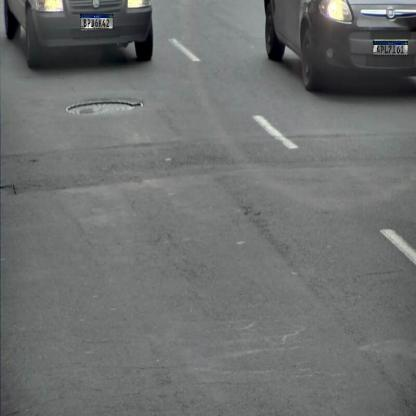PlacaM: (80, 14, 113, 29), (373, 41, 408, 55)
